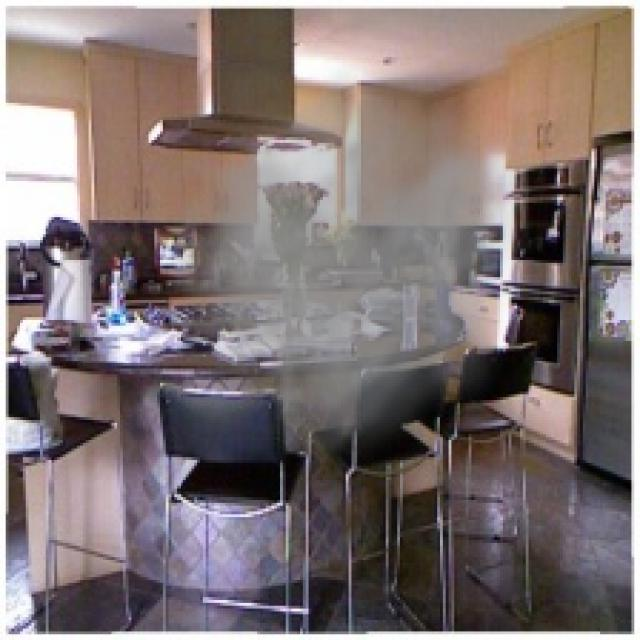smoke: (128, 49, 528, 474)
